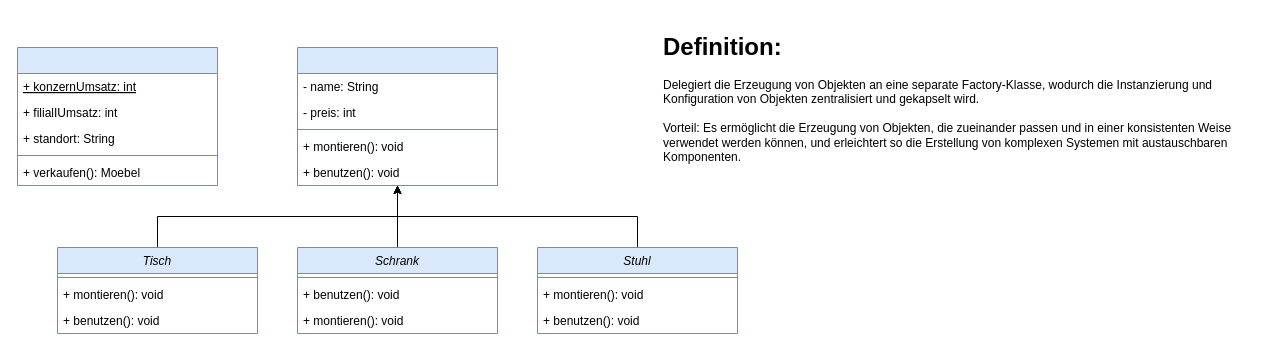
The diagram is 1276 pixels wide and 353 high, and some of its shapes have lost their labels. The box of each missing label's shape, as (x1, y1, x2, y2) in pixels:
IkeaFiliale: (16, 46, 218, 186)
Moebel: (296, 46, 498, 186)
